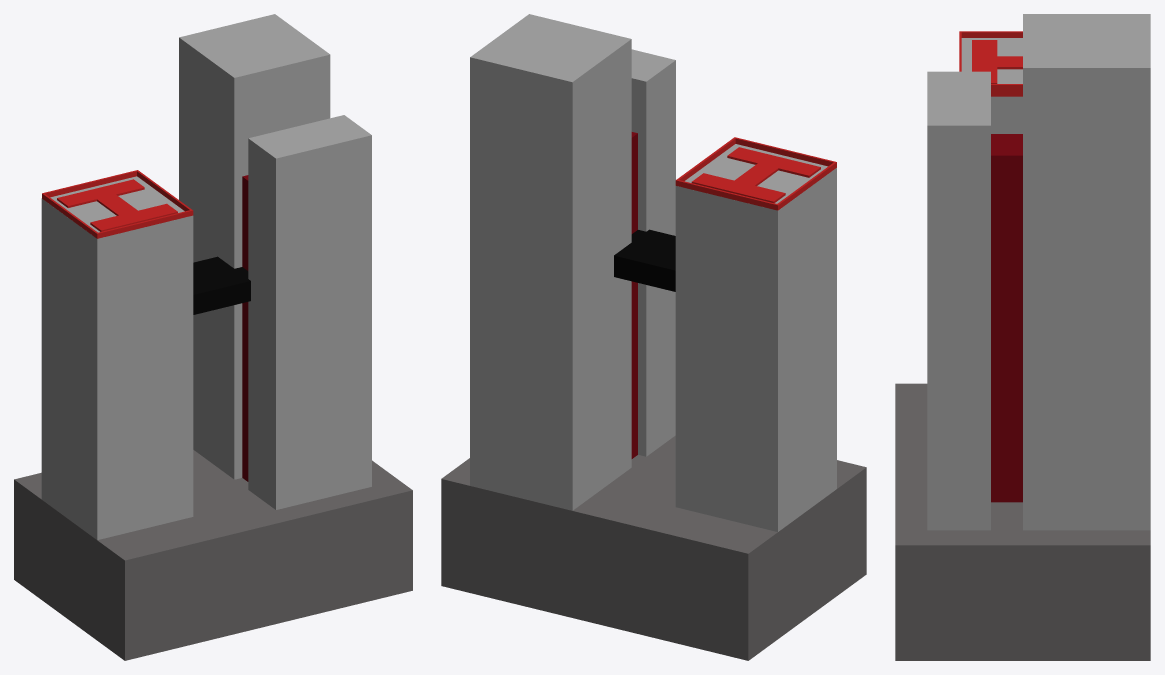
File: hospital.fbx
The picture shows the model from 3 angles, left to right: view 1: azimuth 30°, elevation 25°; view 2: azimuth 150°, elevation 25°; view 3: azimuth 270°, elevation 25°; orthographic projection. The views are drawn at different scales.
Parts seen in each view (by area): view 1: pCube1, pCube3, pCube5, pCube2, pCube4, pCube6, pCube7, pCube8, pCube9, pCube12, pCube13; view 2: pCube2, pCube1, pCube3, pCube5, pCube4, pCube6, pCube8, pCube7, pCube9, pCube13, pCube12; view 3: pCube2, pCube1, pCube5, pCube6, pCube3, pCube8, pCube10, pCube11.
Part boxes in pixels (bbox=[...]): pCube1: bbox=[14, 450, 412, 660]; pCube3: bbox=[41, 176, 193, 540]; pCube5: bbox=[248, 115, 371, 509]; pCube2: bbox=[179, 14, 330, 479]; pCube4: bbox=[193, 256, 250, 314]; pCube6: bbox=[242, 175, 248, 481]; pCube7: bbox=[57, 179, 144, 207]; pCube8: bbox=[90, 203, 177, 231]; pCube9: bbox=[86, 187, 149, 224]; pCube12: bbox=[96, 210, 192, 238]; pCube13: bbox=[43, 170, 137, 197]; pCube2: bbox=[470, 14, 631, 510]; pCube1: bbox=[441, 435, 866, 660]; pCube3: bbox=[675, 144, 836, 531]; pCube5: bbox=[631, 49, 675, 456]; pCube4: bbox=[614, 229, 675, 291]; pCube6: bbox=[631, 132, 637, 458]; pCube8: bbox=[727, 147, 820, 177]; pCube7: bbox=[691, 173, 785, 203]; pCube9: bbox=[723, 160, 786, 194]; pCube13: bbox=[677, 180, 779, 210]; pCube12: bbox=[735, 137, 834, 166]; pCube2: bbox=[1023, 14, 1150, 530]; pCube1: bbox=[895, 383, 1150, 660]; pCube5: bbox=[927, 71, 990, 530]; pCube6: bbox=[991, 134, 1022, 502]; pCube3: bbox=[961, 38, 1022, 133]; pCube8: bbox=[972, 40, 997, 83]; pCube10: bbox=[959, 31, 1022, 37]; pCube11: bbox=[991, 84, 1022, 96].
Size of the model in its own units: 15 by 25 by 10.
